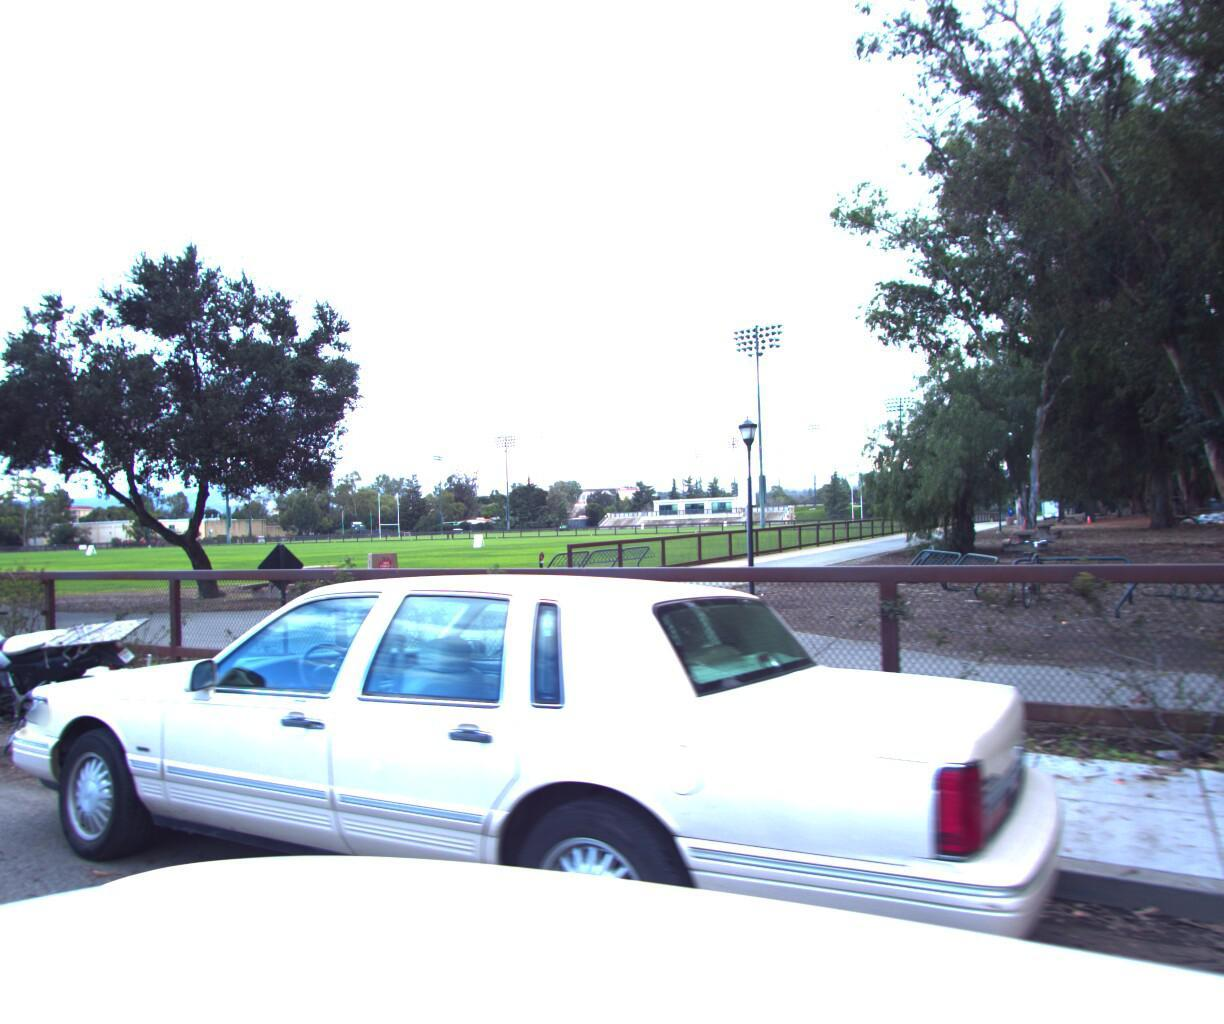bicycle: (1009, 532, 1063, 608)
car: (0, 561, 1086, 1024)
motorcycle: (0, 570, 180, 778)
